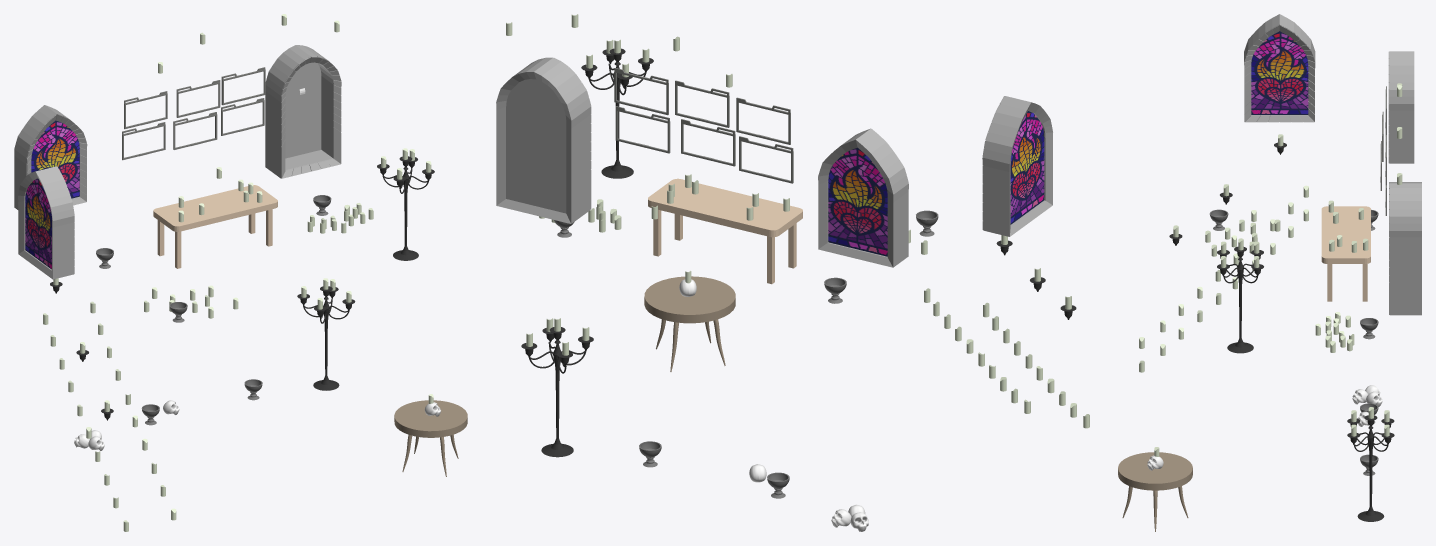
File: --items.glb
The picture shows the model from 3 angles, left to right: view 1: azimuth 30°, elevation 25°; view 2: azimuth 150°, elevation 25°; view 3: azimuth 270°, elevation 25°; orthographic projection. The views are drawn at different scales.
Visible parts, largest first — view 1: WindowRock.003, WindowRock.001, DesktopBase, WindowRock.002, WindowCrystal01.002, TableBase, WindowCrystal01.003, CandelabraBase.001, CandelabraBase; view 2: WindowRock.003, WindowRock.001, WindowCrystal01.004, WindowRock.002, DesktopBase, TableBase, WindowCrystal01.003, CandelabraBase; view 3: WindowRock.003, WindowCrystal01.001, WindowRock.002, WindowRock.001, DesktopBase, TableBase, CandelabraBase, CandelabraBase.001.
Boxes of the visible parts, x1,y1,x2,y2 form: WindowRock.003: (265,45,341,178); WindowRock.001: (18,166,74,279); DesktopBase: (153,185,277,231); WindowRock.002: (14,105,87,209); WindowCrystal01.002: (31,120,79,198); TableBase: (394,400,467,437); WindowCrystal01.003: (25,178,51,269); CandelabraBase.001: (393,167,418,260); CandelabraBase: (313,297,339,390); WindowRock.003: (496,57,591,223); WindowRock.001: (982,96,1052,236); WindowCrystal01.004: (828,147,887,256); WindowRock.002: (818,128,908,267); DesktopBase: (648,178,802,237); TableBase: (644,276,735,323); WindowCrystal01.003: (1010,111,1044,224); CandelabraBase: (541,340,573,457); WindowRock.003: (1389,182,1421,315); WindowCrystal01.001: (1251,31,1308,114); WindowRock.002: (1388,51,1414,163); WindowRock.001: (1244,14,1315,122); DesktopBase: (1321,206,1370,263); TableBase: (1118,452,1192,490); CandelabraBase: (1357,426,1384,521); CandelabraBase.001: (1227,257,1253,353).
Bounding box in the file's own units: 17.72 × 16.94 × 12.32.
10 materials, 1 textured.
